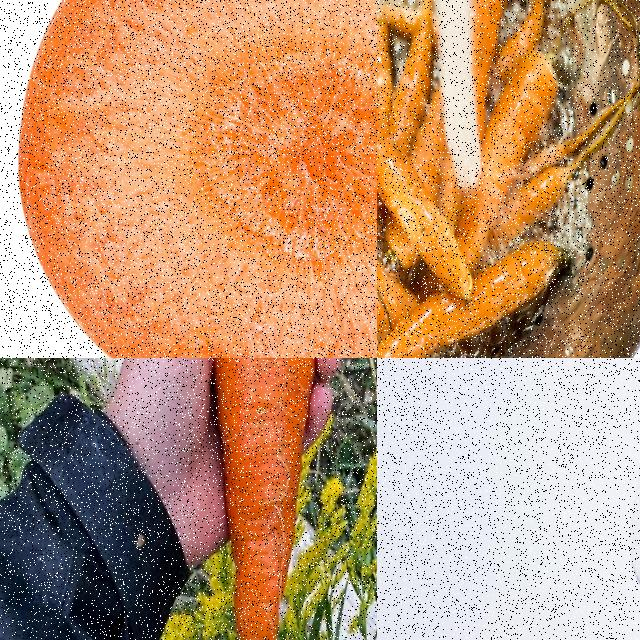carrot: (1, 0, 376, 357), (377, 0, 639, 357), (210, 358, 319, 639)
